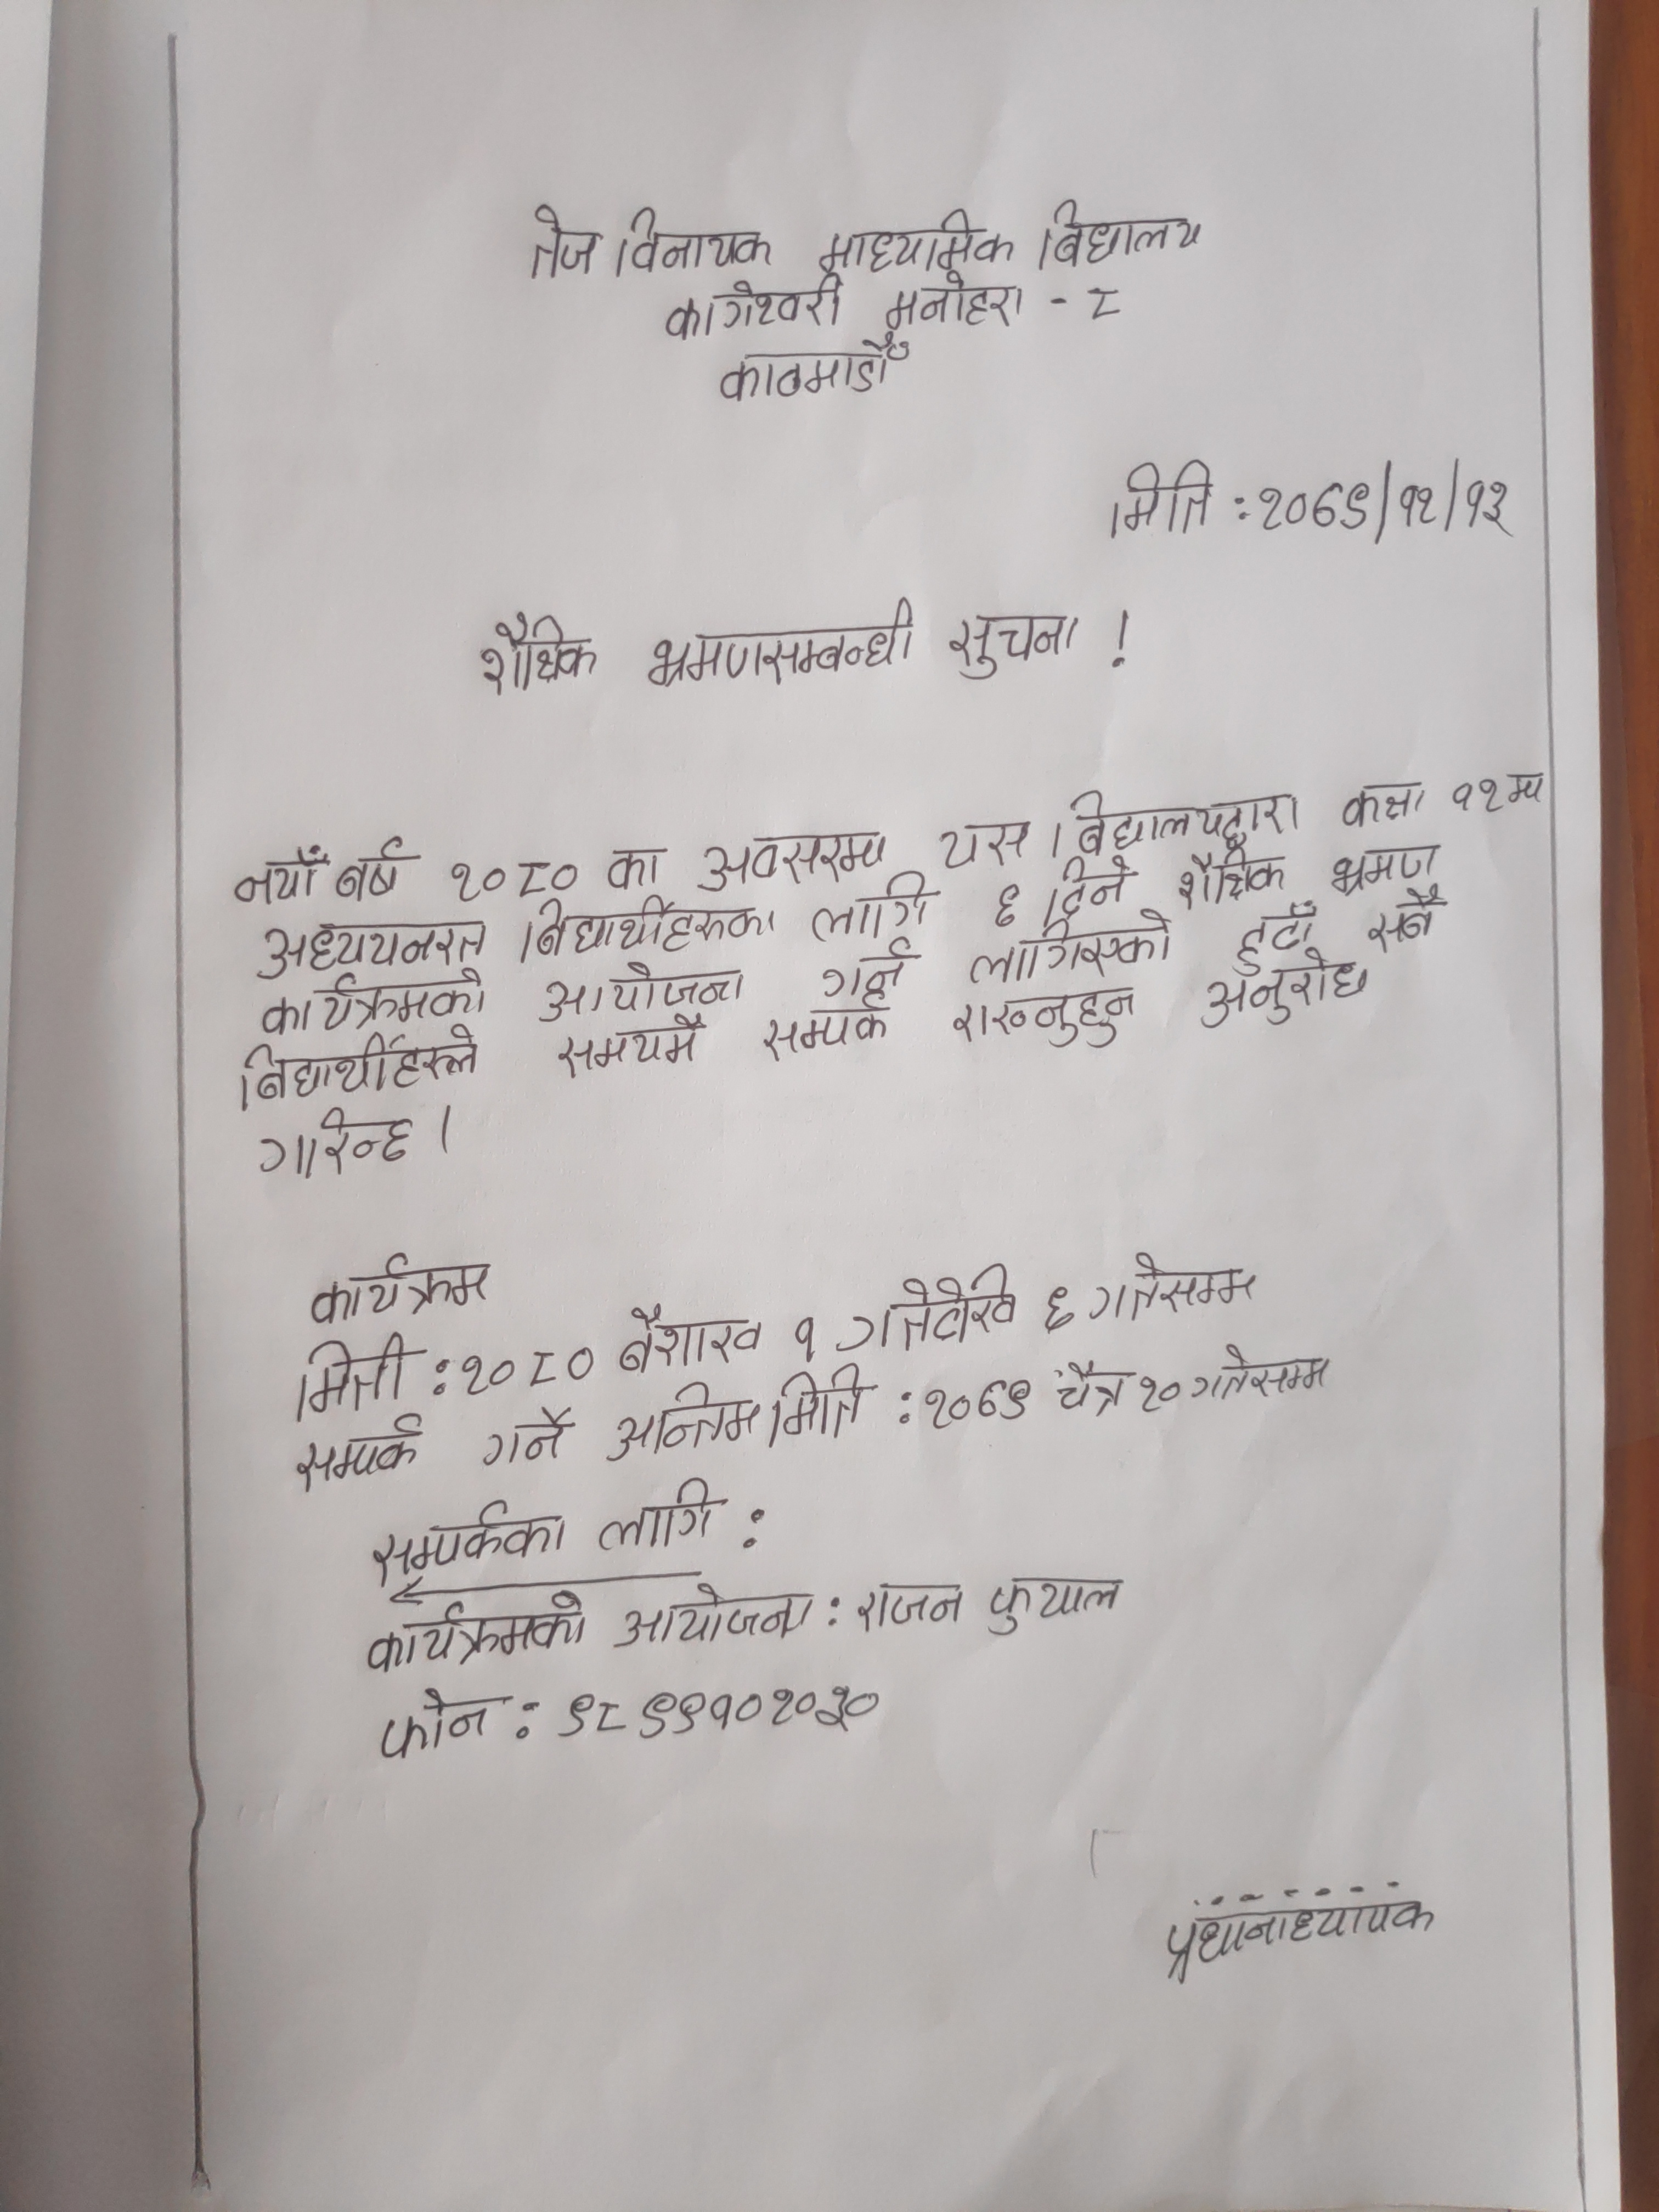text: (1161, 1895, 1443, 1987), (641, 592, 920, 685), (1256, 463, 1520, 549), (225, 1026, 491, 1109), (559, 1677, 890, 1743), (246, 961, 493, 1036), (361, 1594, 592, 1672), (516, 897, 784, 963), (356, 1498, 566, 1581), (1060, 780, 1300, 853), (833, 1261, 1021, 1353), (606, 1573, 821, 1651), (953, 916, 1197, 982), (1082, 1247, 1269, 1332), (1032, 197, 1211, 273), (807, 211, 1019, 273), (538, 956, 751, 1019), (709, 336, 910, 402), (606, 1374, 760, 1460), (1197, 954, 1380, 1026), (943, 988, 1140, 1054), (298, 1252, 509, 1313), (247, 921, 498, 972), (613, 202, 781, 277), (591, 1467, 725, 1559), (471, 611, 606, 698), (694, 826, 882, 888), (945, 587, 1079, 674), (666, 272, 847, 336), (612, 1298, 765, 1371), (369, 1691, 512, 1766), (281, 1339, 413, 1420), (254, 1108, 418, 1172), (983, 1566, 1129, 1637), (756, 1359, 866, 1449), (1105, 456, 1222, 540), (1188, 1339, 1345, 1400), (751, 995, 892, 1061), (289, 1421, 430, 1487), (880, 270, 1028, 333), (561, 1015, 708, 1078), (809, 874, 934, 942), (918, 1366, 1037, 1437), (854, 1566, 967, 1637), (1164, 841, 1288, 906), (451, 1343, 592, 1397), (1042, 848, 1131, 928), (450, 853, 580, 907), (519, 204, 601, 282), (329, 834, 415, 909), (228, 843, 322, 911), (929, 813, 1037, 871), (1321, 841, 1438, 894), (479, 1400, 573, 1465), (1054, 1353, 1131, 1428), (1234, 906, 1321, 970), (1328, 780, 1441, 829), (816, 939, 913, 995), (1370, 888, 1443, 958), (601, 843, 669, 897), (1448, 770, 1513, 826), (985, 869, 1028, 930), (1134, 1367, 1185, 1418), (1039, 1280, 1079, 1339), (784, 1306, 823, 1367)
